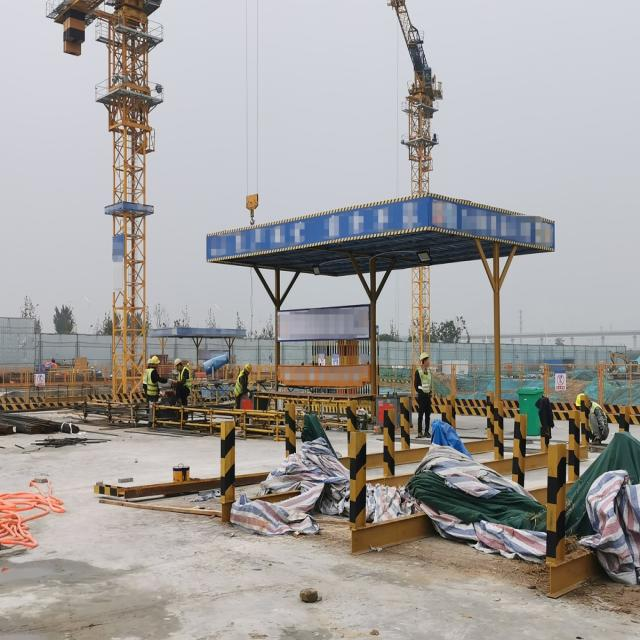crane: (46, 0, 164, 393), (387, 0, 442, 402)
excavator: (608, 350, 638, 371)
